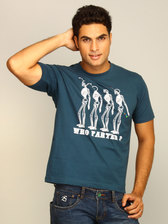clothoes: (36, 56, 157, 198)
